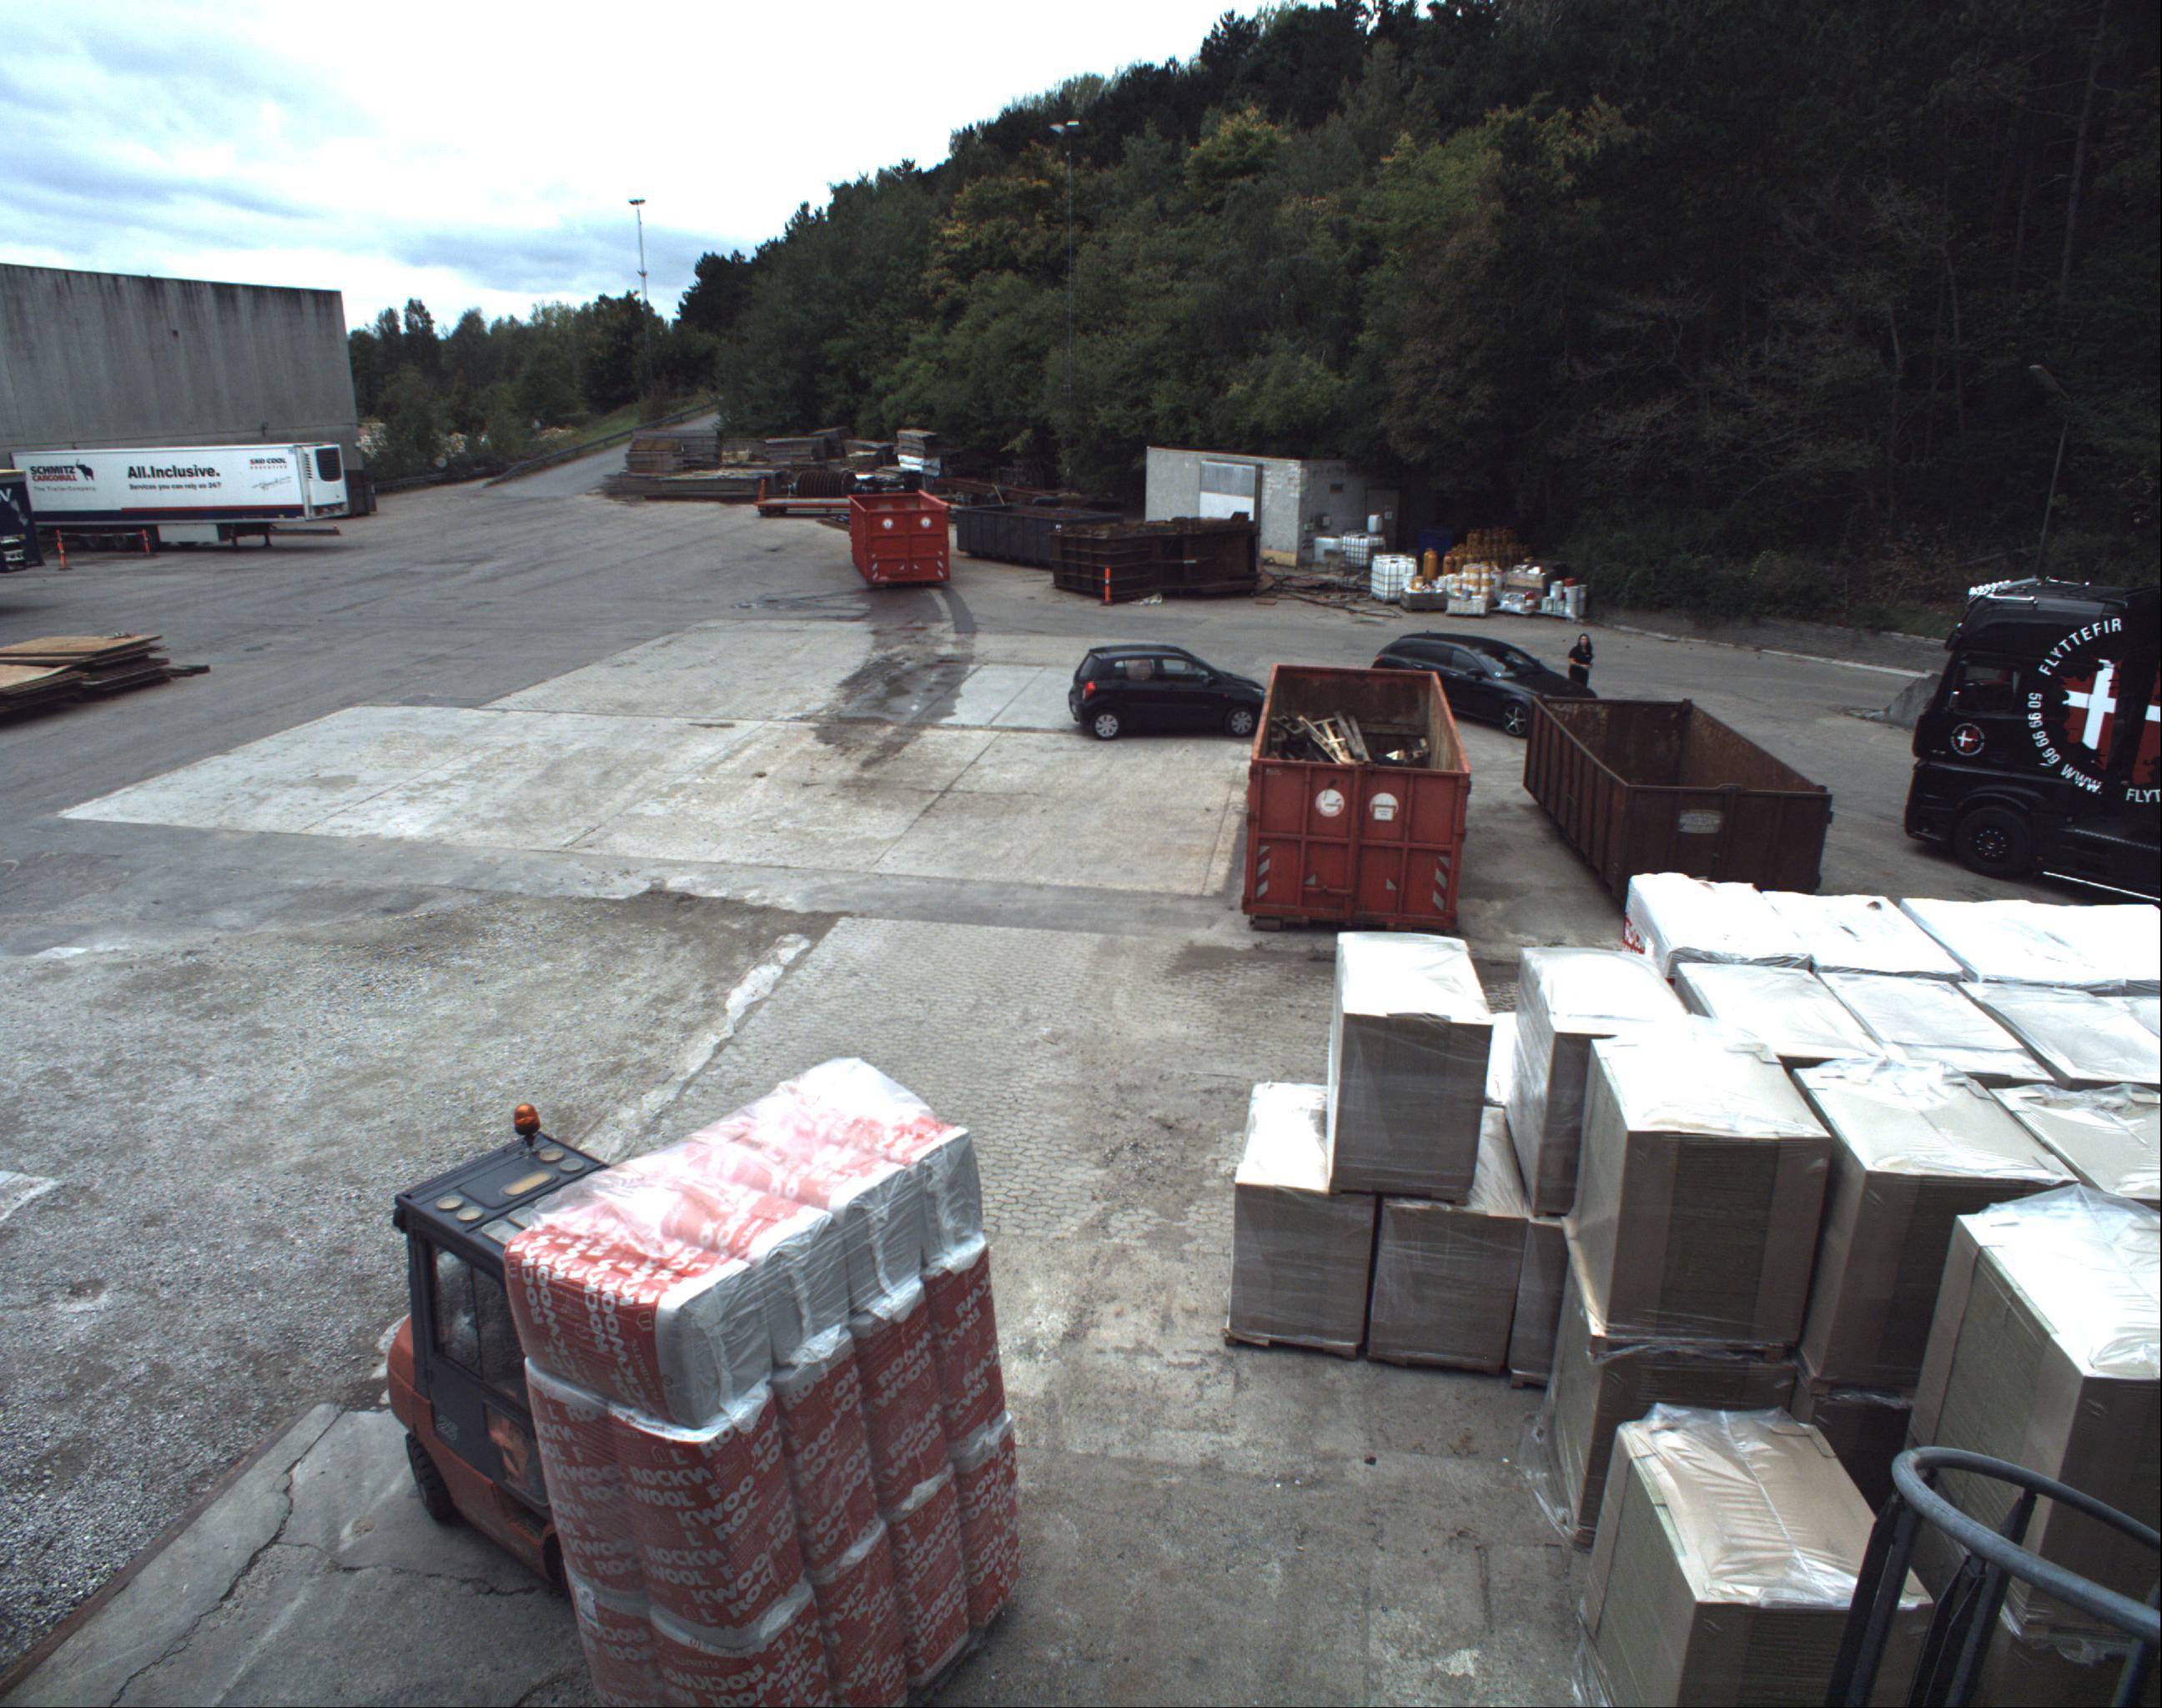rockwool_batts: (509, 1073, 1027, 1706)
